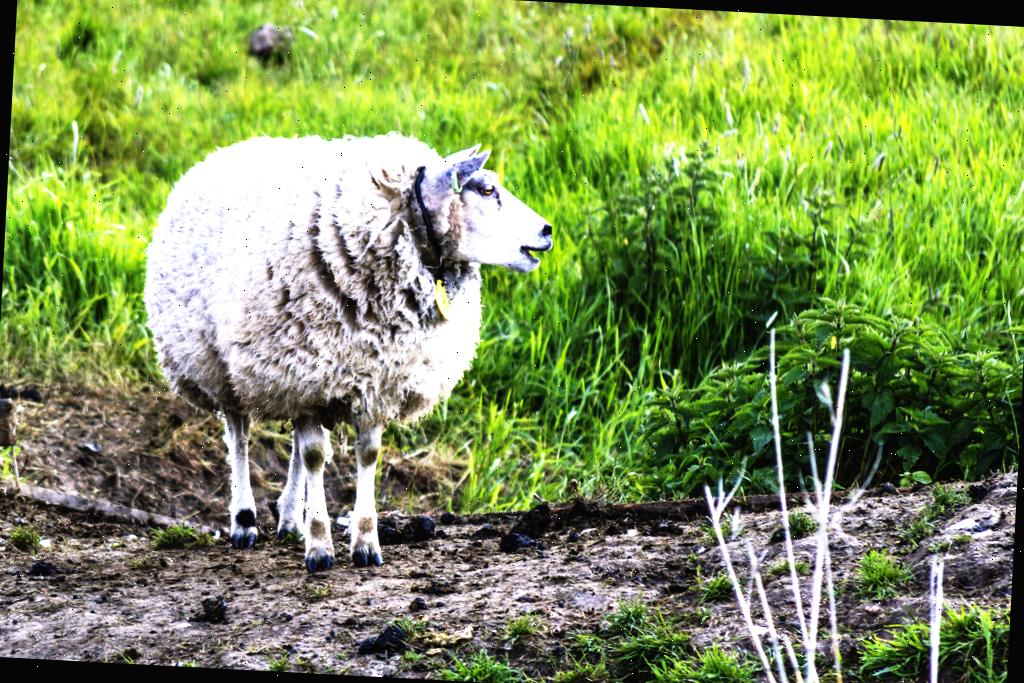Sheep: (134, 124, 569, 570)
